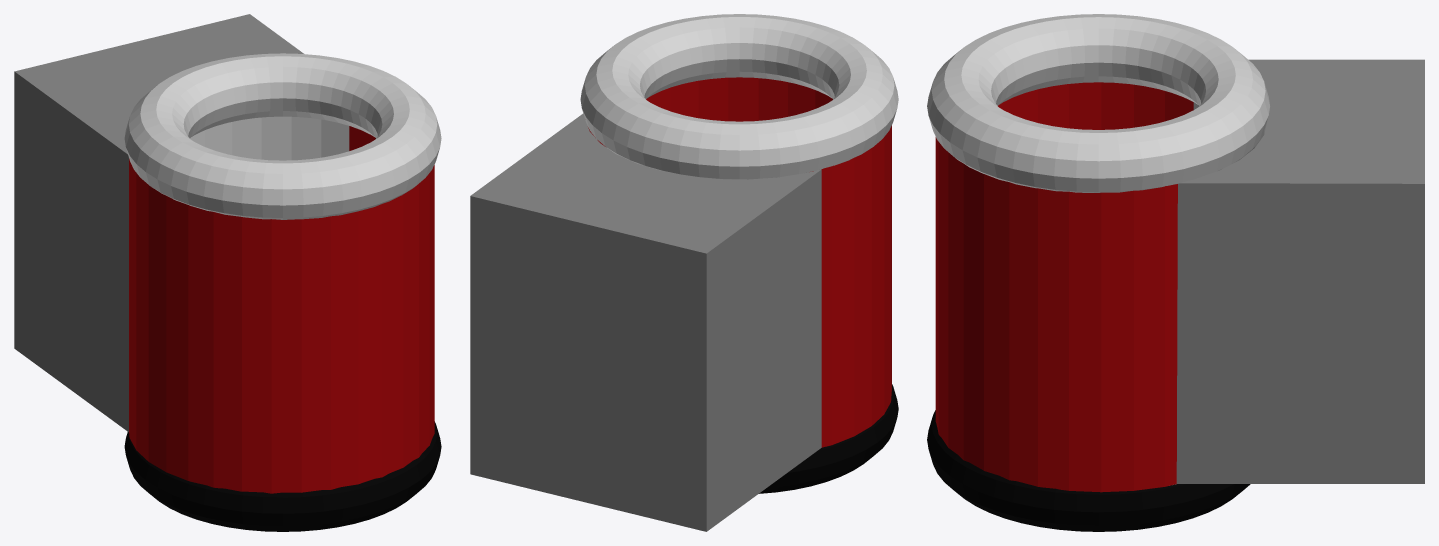
Rendered from Light.fbx.
3 renders of one model, left to right at view 1: azimuth 30°, elevation 25°; view 2: azimuth 150°, elevation 25°; view 3: azimuth 270°, elevation 25°, orthographic. The views are drawn at different scales.
Parts seen in each view (by area): view 1: Cylinder; view 2: Cylinder; view 3: Cylinder.
Boxes of the visible parts, x1,y1,x2,y2 form: Cylinder: (14, 14, 441, 531); Cylinder: (470, 14, 898, 531); Cylinder: (927, 14, 1424, 531).
Bounding box in the file's own units: 233 × 297 × 338.
